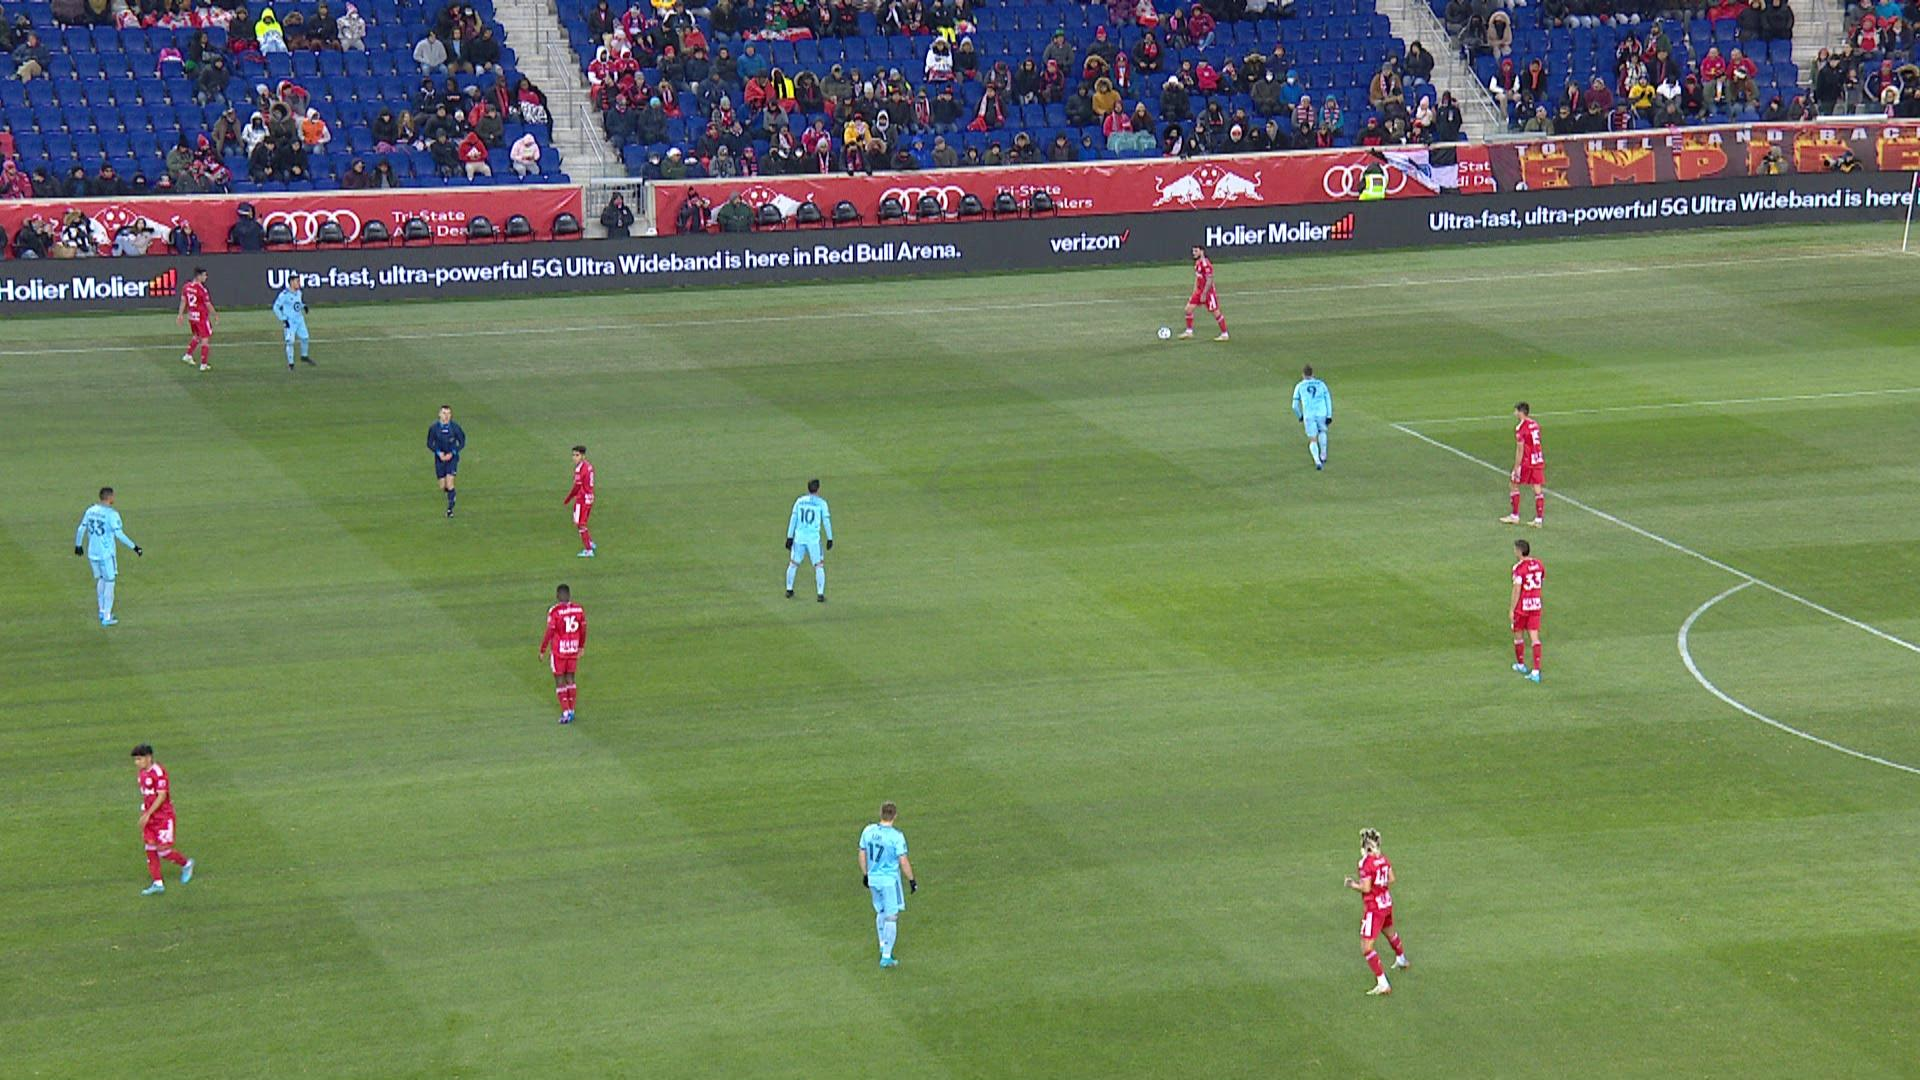football: (1156, 326, 1173, 340)
